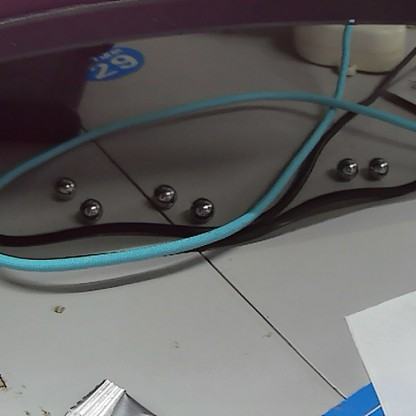ironball: (147, 180, 180, 210), (50, 174, 82, 201), (187, 191, 212, 223), (78, 194, 103, 223), (333, 154, 356, 184), (362, 154, 386, 178)
